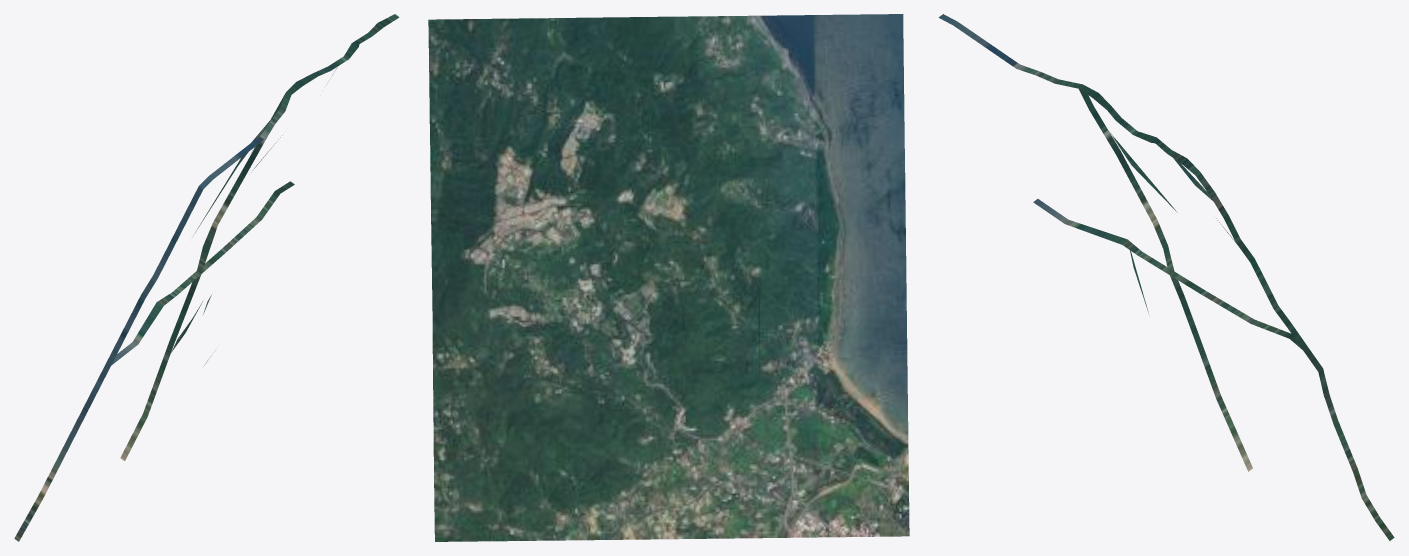
3 renders of one model, left to right at view 1: azimuth 30°, elevation 25°; view 2: azimuth 150°, elevation 25°; view 3: azimuth 270°, elevation 25°, orthographic. The views are drawn at different scales.
Size of the model in its own units: 4840 by 4529 by 4341.
Materials: 1 (1 with a texture image).
